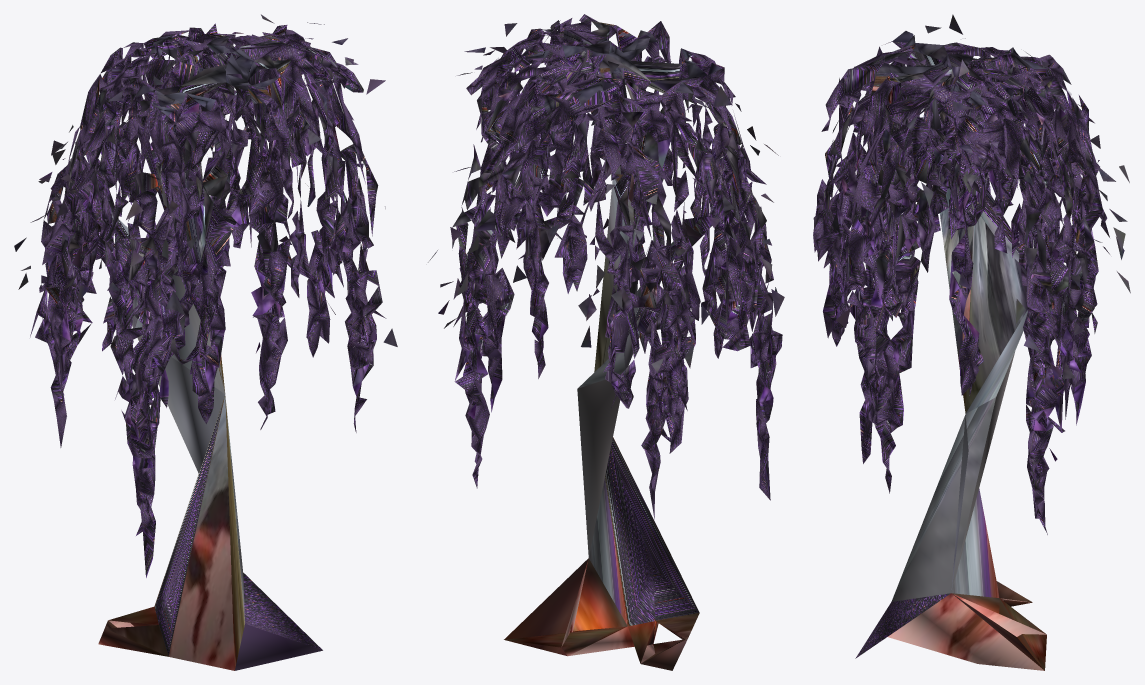
Rendered from Enchanted_Wisteria_Tr.glb.
The picture shows the model from 3 angles, left to right: view 1: azimuth 30°, elevation 25°; view 2: azimuth 150°, elevation 25°; view 3: azimuth 270°, elevation 25°; orthographic projection. The views are drawn at different scales.
Parts seen in each view (by area): view 1: Enchanted_Wisteria_Tr; view 2: Enchanted_Wisteria_Tr; view 3: Enchanted_Wisteria_Tr.
Part boxes in pixels (<box>): Enchanted_Wisteria_Tr: <box>14,14,397,670</box>; Enchanted_Wisteria_Tr: <box>428,14,784,670</box>; Enchanted_Wisteria_Tr: <box>813,14,1130,670</box>.
Bounding box in the file's own units: 1.02 × 1.9 × 0.8986.
1 material, 1 textured.
